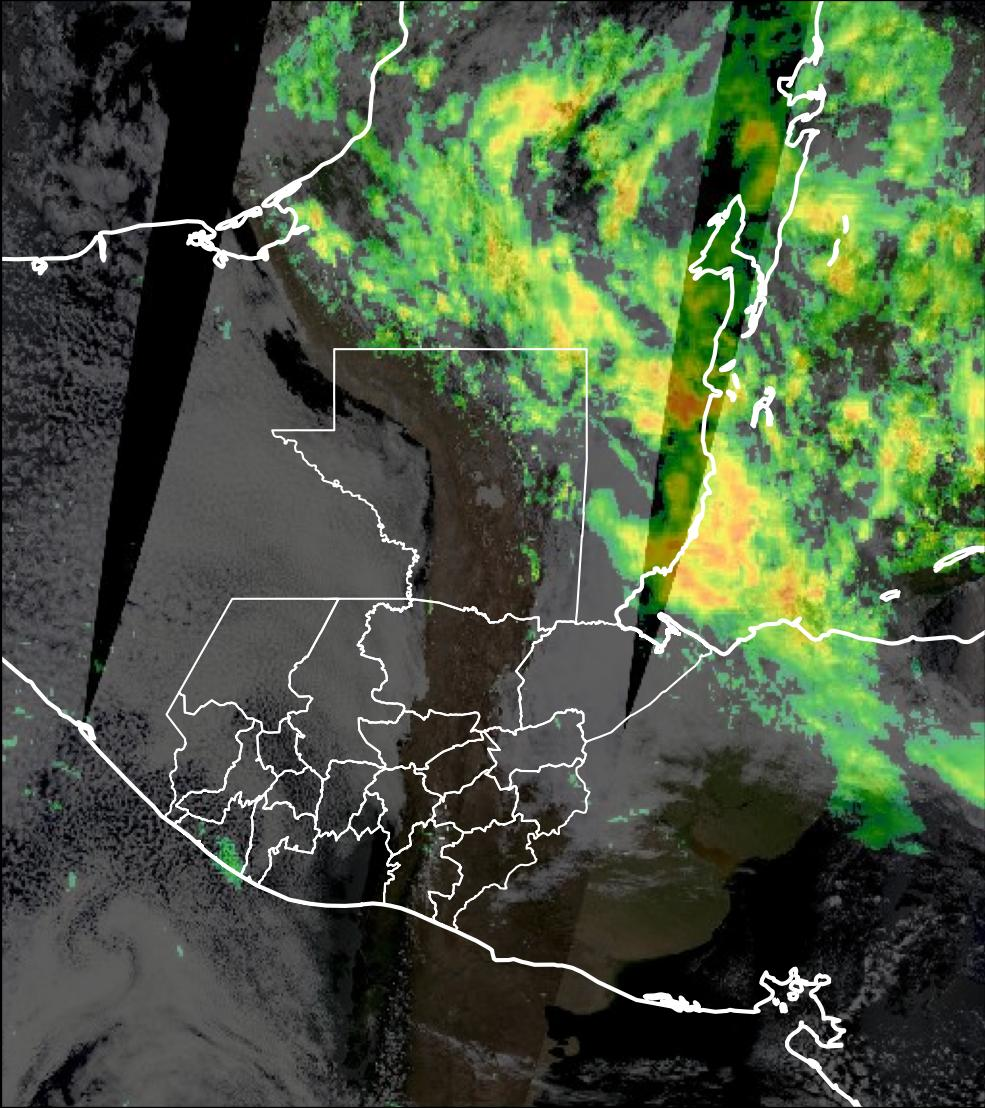precipitacion: (634, 359, 734, 443)
